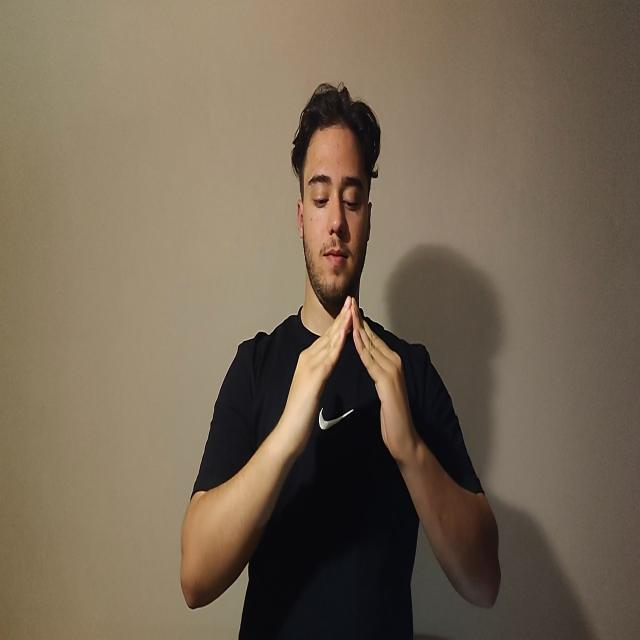house: (276, 295, 419, 476)
